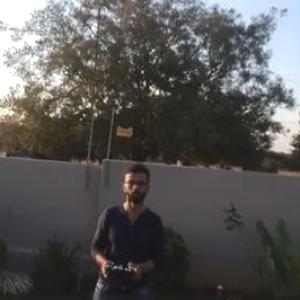follow: (79, 158, 169, 299)
